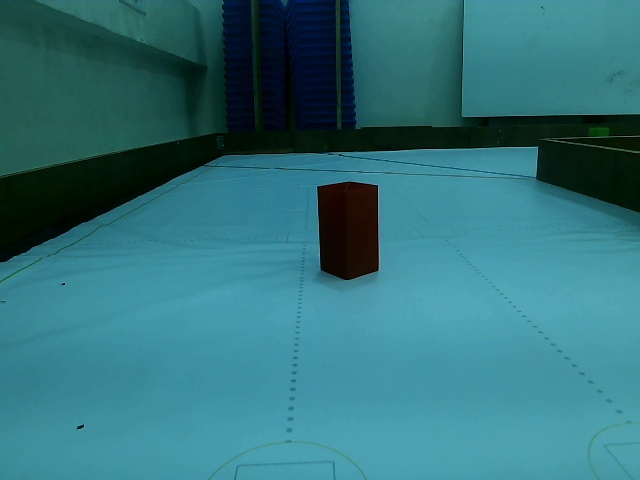red: (320, 183, 379, 276)
